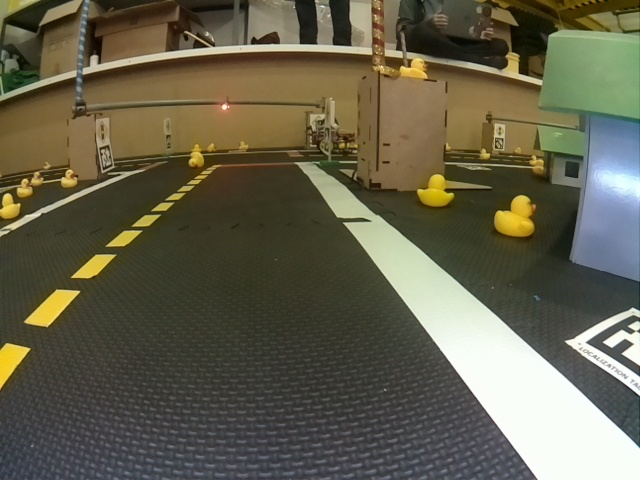Duckie: (495, 194, 528, 235), (418, 174, 453, 206), (401, 58, 428, 79), (2, 194, 20, 219), (18, 179, 33, 197), (61, 170, 77, 186), (189, 152, 204, 167), (31, 173, 42, 185), (239, 141, 248, 150), (207, 143, 216, 152)
QR code: (567, 309, 639, 392), (99, 149, 113, 170)
Signal sign: (97, 121, 108, 143)
Traffic light: (221, 98, 230, 110)
